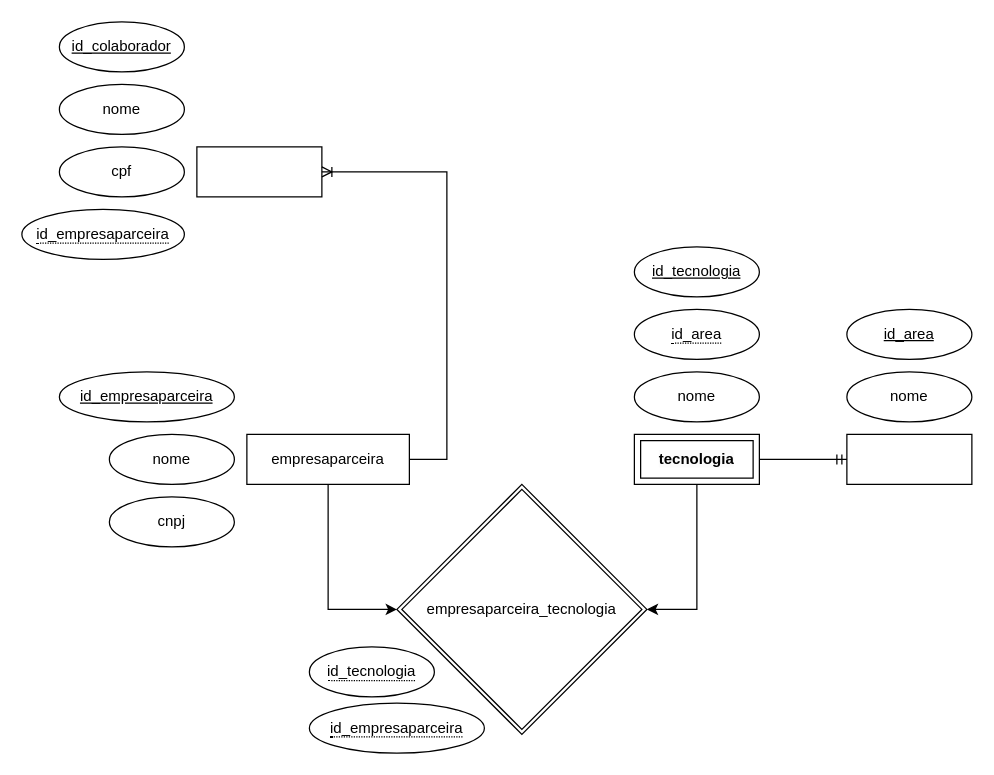
Image size: 994x775. Some labels were removed from this diagram. Here are the shapes that lost their labels. From the top down, the centre of each, then its label:
At (259,171): "colaborador".
At (909,458): "area".
